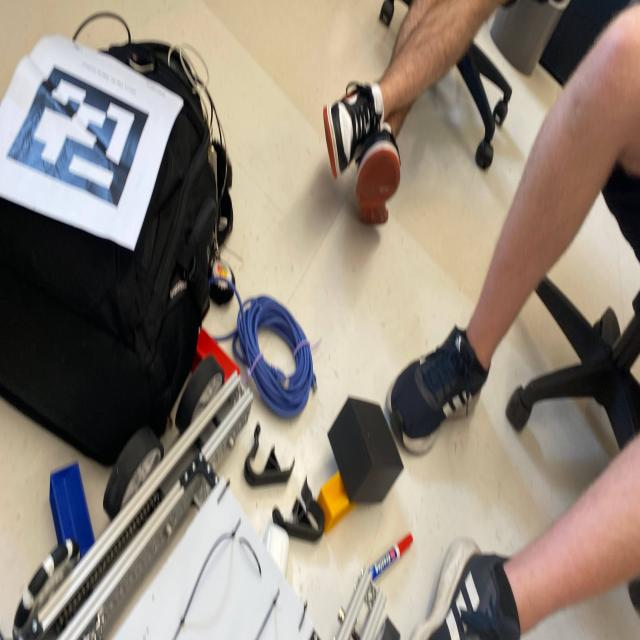blue-specimen: (50, 463, 95, 557)
red-specimen: (191, 327, 240, 383)
yellow-specimen: (317, 472, 354, 534)
